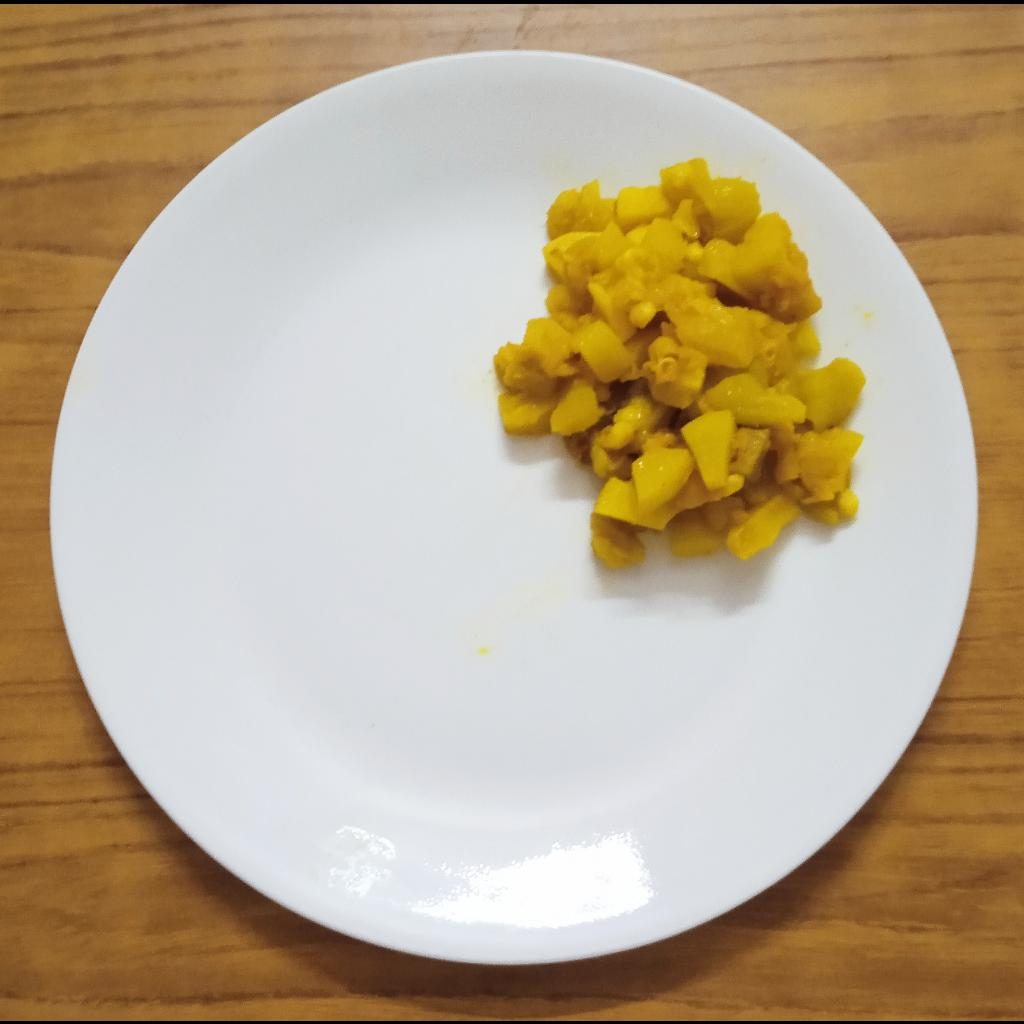lau: (494, 154, 872, 575)
